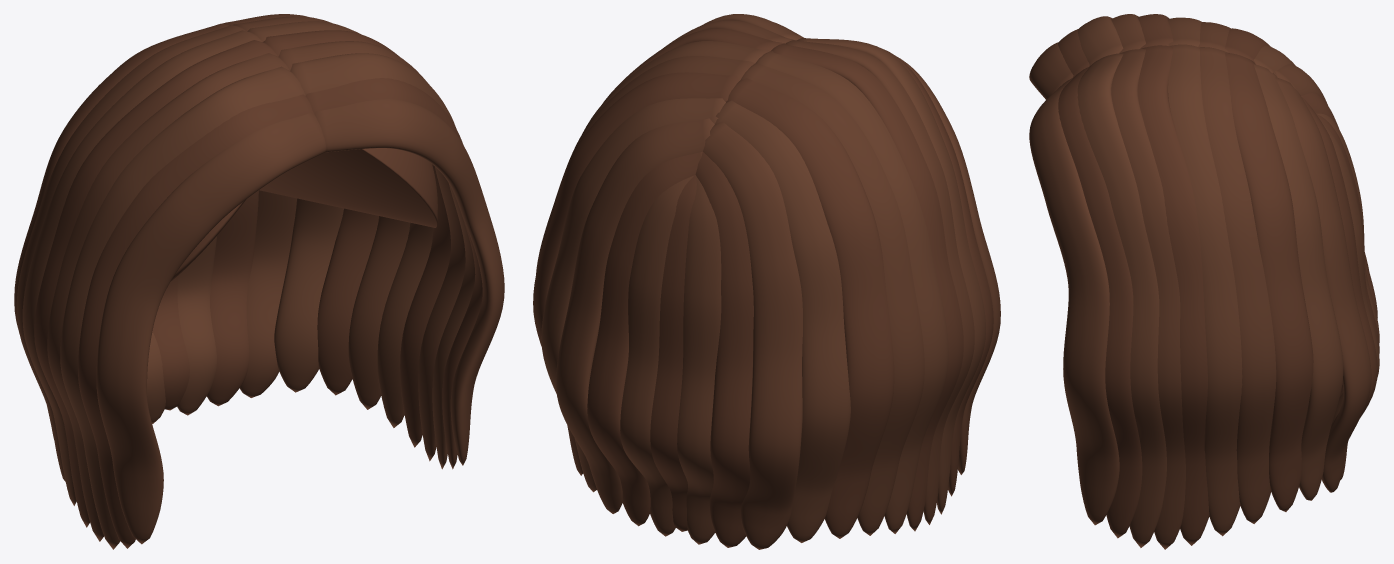
File: hair-waves-sculpted.glb
3 views of the same model, side by side, from view 1: azimuth 30°, elevation 25°; view 2: azimuth 150°, elevation 25°; view 3: azimuth 270°, elevation 25° (orthographic). The views are drawn at different scales.
Visible parts, largest first — view 1: Hair / waves -1 0, Hair / waves 1 0, Hair / waves -1 2, Hair / waves -1 1, Recessed roots, Hair / waves -1 3, Hair / waves -1 4, Hair / waves 1 8, Hair / waves -1 5, Hair / waves 1 10, Hair / waves 1 9, Hair / waves 1 2 (+11 smaller); view 2: Hair / waves -1 9, Hair / waves -1 7, Hair / waves -1 8, Hair / waves -1 6, Hair / waves 1 9, Hair / waves -1 10, Hair / waves -1 5, Hair / waves -1 11, Hair / waves 1 10, Hair / waves 1 11, Hair / waves -1 4, Hair / waves 1 8 (+11 smaller); view 3: Hair / waves 1 0, Hair / waves 1 7, Hair / waves 1 5, Hair / waves 1 6, Hair / waves 1 2, Hair / waves 1 4, Hair / waves 1 3, Hair / waves 1 8, Hair / waves 1 1, Hair / waves 1 9, Hair / waves 1 10, Hair / waves 1 11 (+13 smaller).
Part boxes in pixels (x1,y1,x2,y2): Hair / waves -1 0: (96, 112, 326, 544); Hair / waves 1 0: (314, 99, 504, 465); Hair / waves -1 2: (60, 66, 305, 549); Hair / waves -1 1: (78, 94, 314, 548); Recessed roots: (171, 148, 437, 280); Hair / waves -1 3: (47, 53, 289, 541); Hair / waves -1 4: (34, 40, 278, 527); Hair / waves 1 8: (274, 198, 343, 392); Hair / waves -1 5: (22, 30, 262, 505); Hair / waves 1 10: (206, 190, 258, 406); Hair / waves 1 9: (239, 190, 296, 397); Hair / waves 1 2: (290, 53, 475, 469); Hair / waves -1 9: (703, 121, 802, 549); Hair / waves -1 7: (726, 78, 894, 538); Hair / waves -1 8: (715, 100, 850, 542); Hair / waves -1 6: (740, 63, 924, 535); Hair / waves 1 9: (556, 118, 714, 513); Hair / waves -1 10: (695, 151, 753, 547); Hair / waves -1 5: (756, 51, 948, 533); Hair / waves -1 11: (677, 176, 721, 544); Hair / waves 1 10: (587, 152, 702, 526); Hair / waves 1 11: (620, 175, 693, 536); Hair / waves -1 4: (771, 43, 963, 531); Hair / waves 1 8: (541, 98, 725, 492); Hair / waves 1 0: (1029, 78, 1119, 525); Hair / waves 1 7: (1225, 53, 1313, 511); Hair / waves 1 5: (1168, 44, 1242, 536); Hair / waves 1 6: (1199, 47, 1276, 523); Hair / waves 1 2: (1077, 53, 1166, 547); Hair / waves 1 4: (1138, 45, 1209, 545); Hair / waves 1 3: (1111, 49, 1185, 549); Hair / waves 1 8: (1253, 64, 1343, 500); Hair / waves 1 1: (1058, 67, 1142, 538); Hair / waves 1 9: (1275, 77, 1371, 492); Hair / waves 1 10: (1301, 96, 1377, 480); Hair / waves 1 11: (1318, 117, 1379, 426).
Bounding box in the file's own units: 1.21 × 1.27 × 0.9366.
